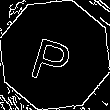P_N: (30, 26, 80, 84)
